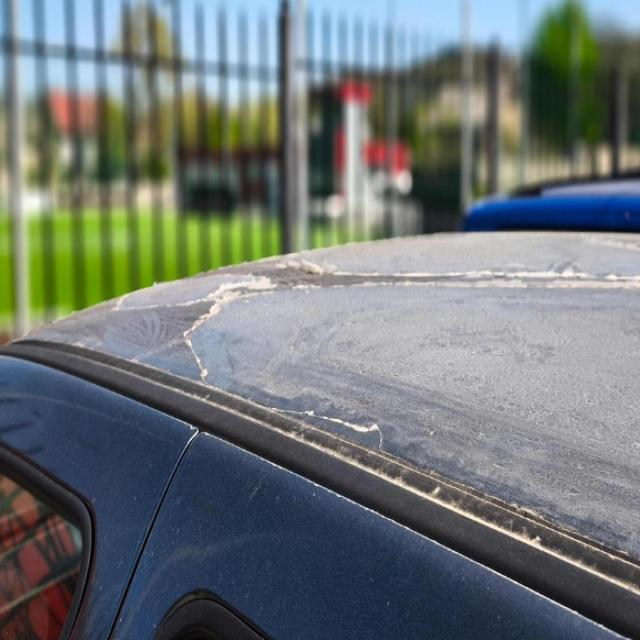Dent: (184, 277, 277, 383), (272, 407, 382, 447)
